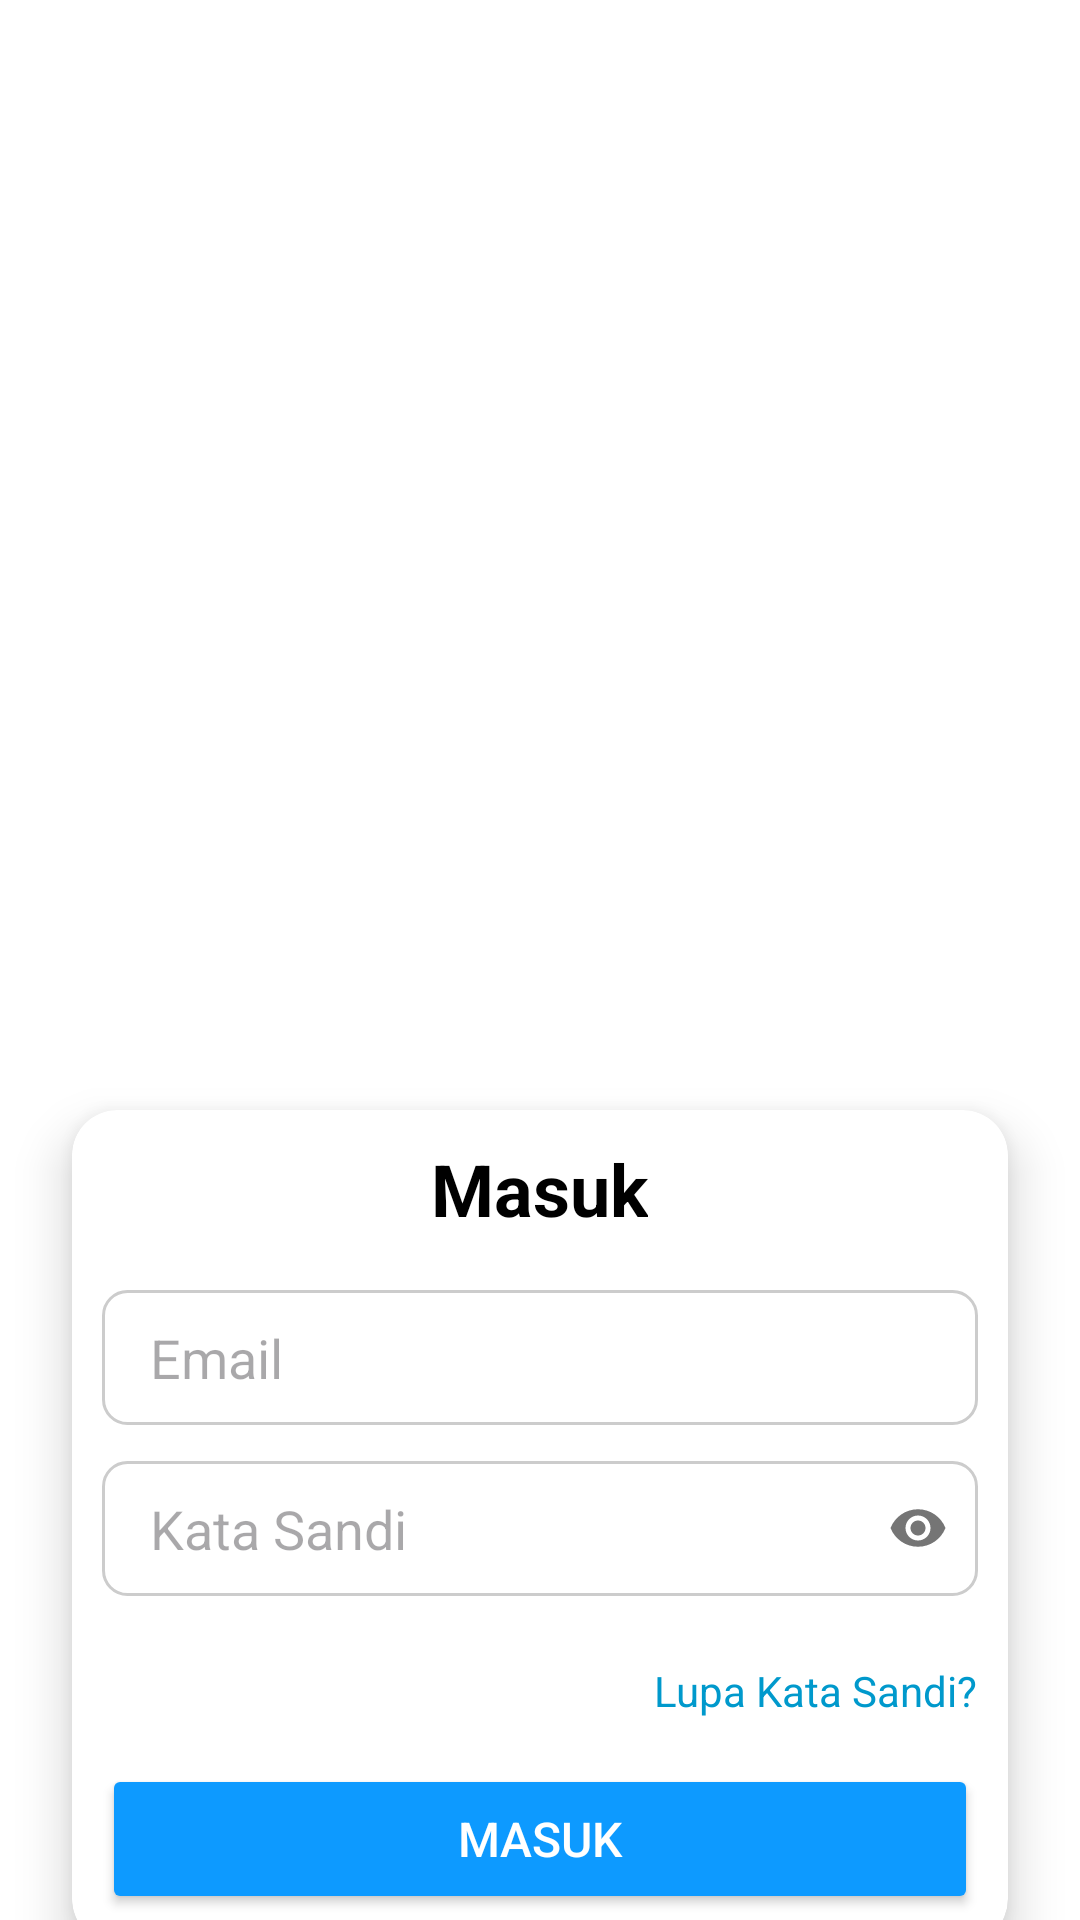

Named icons in this screenshot (1080px×1920px) and their bounding boxes, detection(x1, y1, x2, y2):
Toggle Password: detection(890, 1509, 946, 1547)
